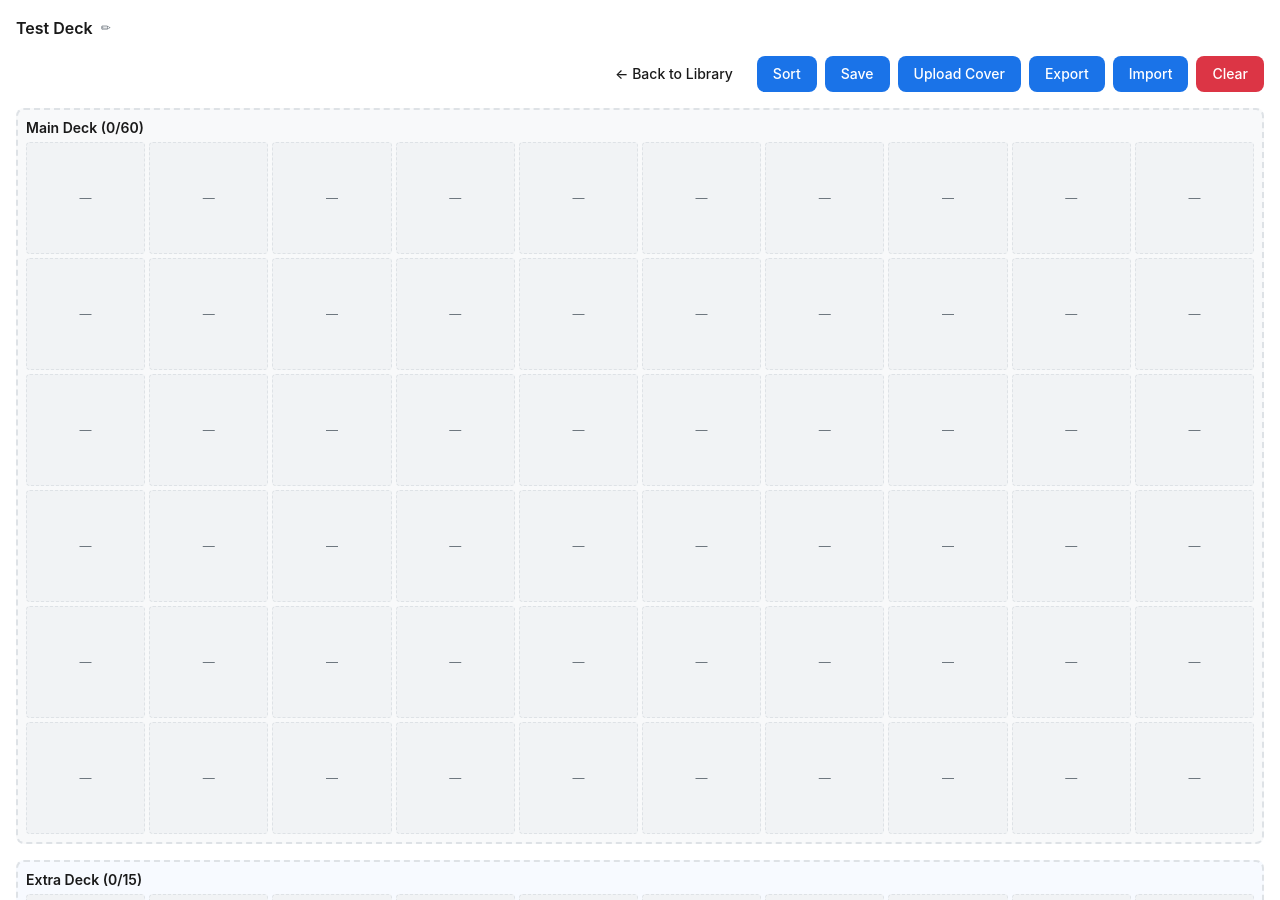
Test case: DeckBuilder save/import/export › Save shows destructive Toast on failure
Click the button "Save".
click(857, 74)  # box [825,56,890,92]
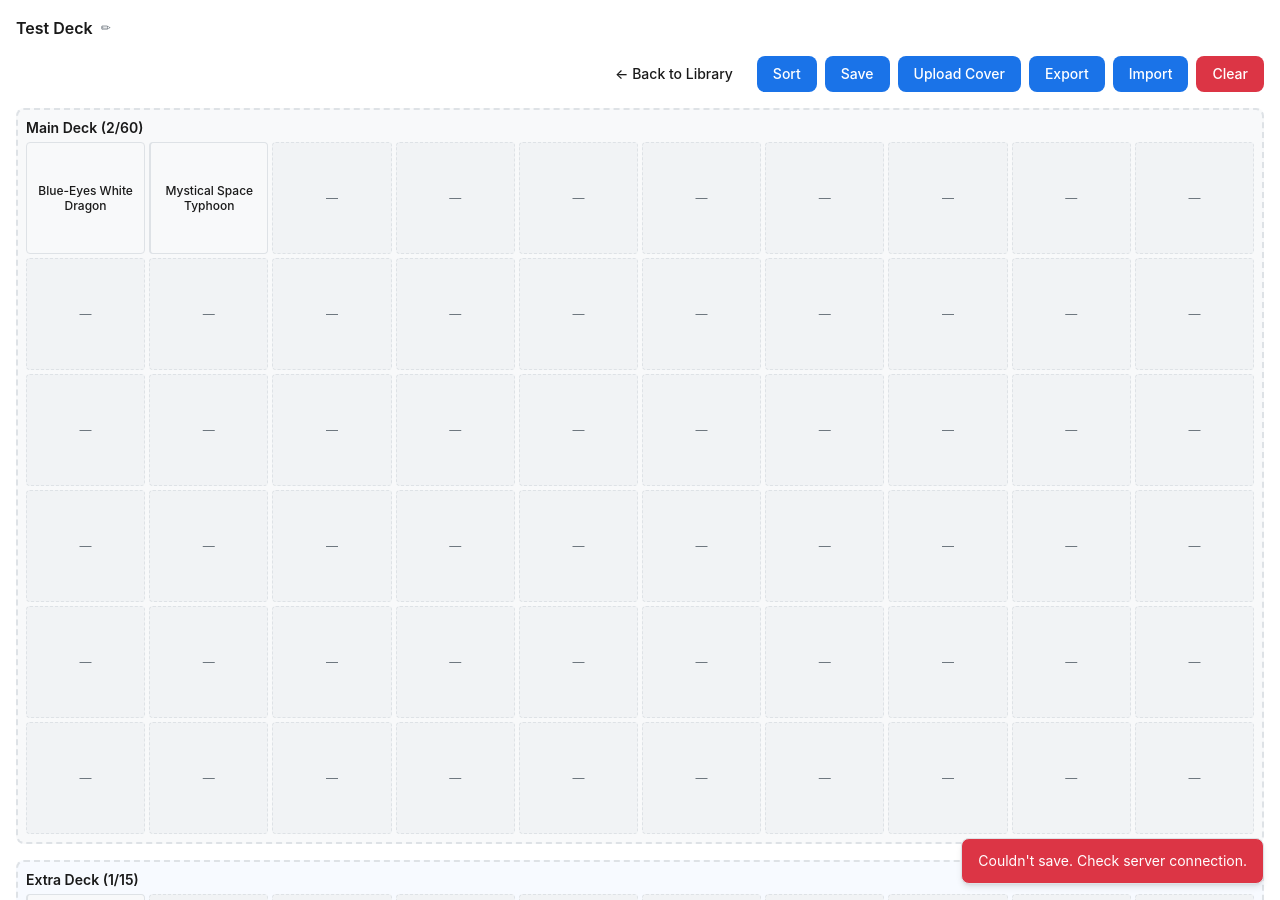
Expected: the text "Couldn't save. Check server connection." is shown, [961,838,1264,884]
